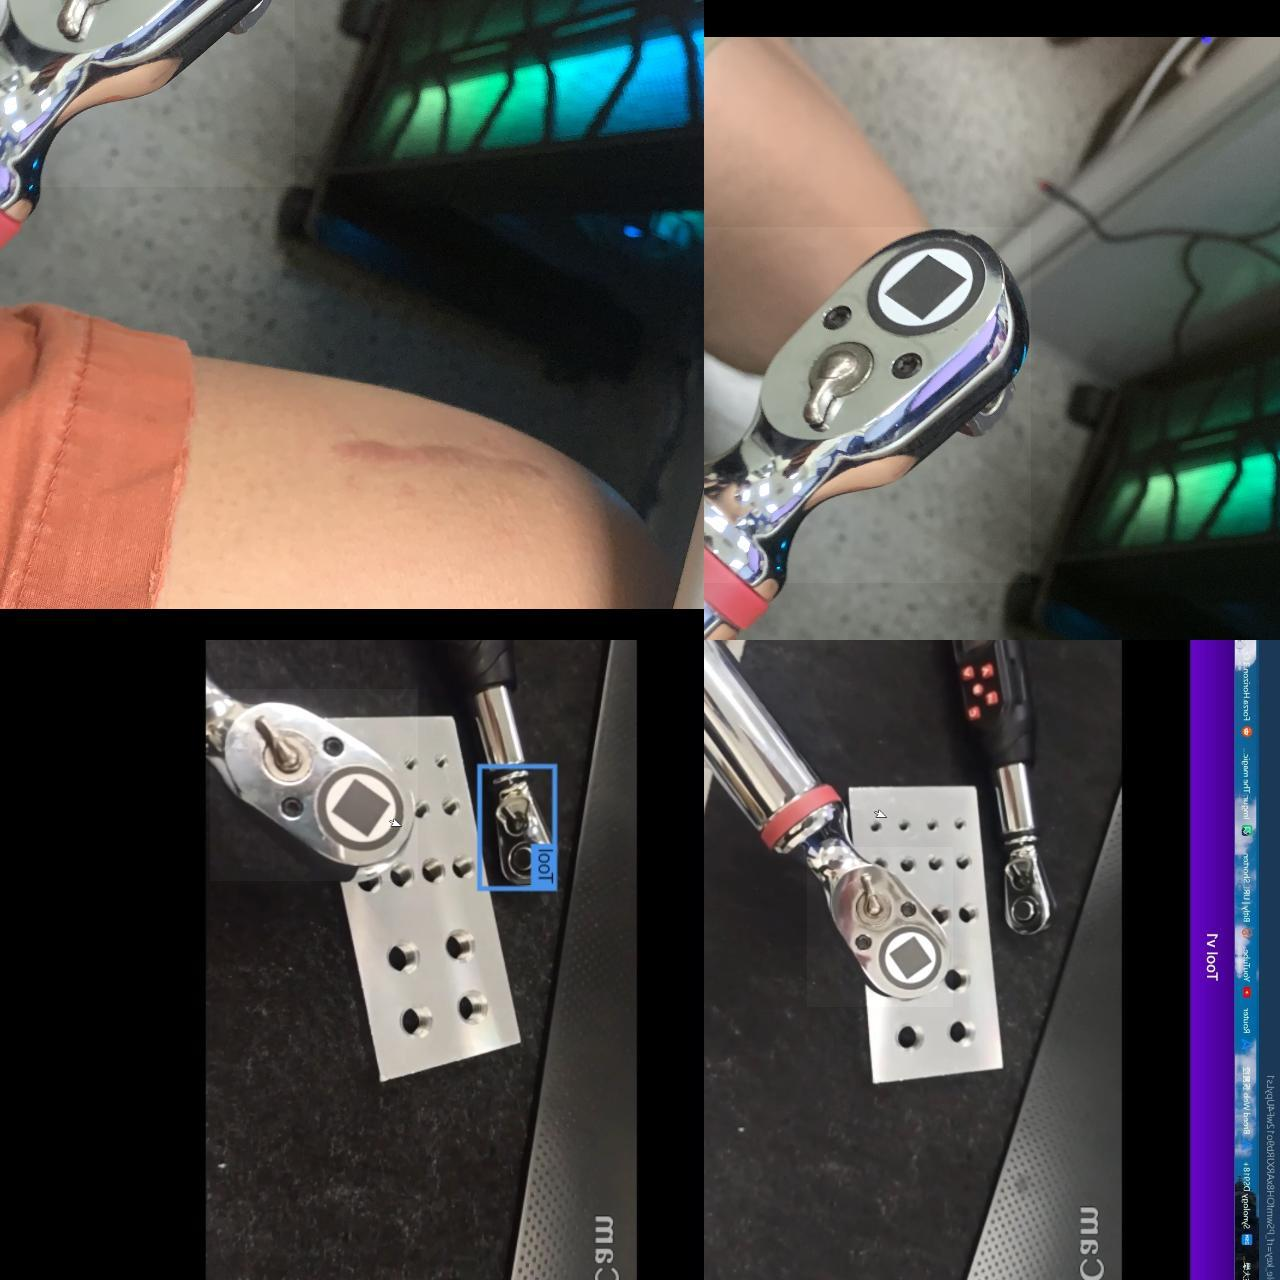Tool: (704, 227, 1030, 583), (0, 0, 294, 188), (209, 689, 417, 881), (806, 847, 952, 1007), (999, 847, 1057, 938)
hole: (376, 937, 422, 982), (436, 922, 478, 968), (445, 987, 491, 1029), (387, 1005, 433, 1046), (885, 1017, 924, 1057), (939, 1015, 974, 1049), (414, 856, 445, 891), (383, 862, 416, 894), (447, 855, 477, 886), (940, 961, 971, 992), (349, 874, 381, 900), (438, 797, 464, 824), (954, 900, 980, 926), (410, 797, 433, 824), (928, 900, 952, 924), (953, 847, 976, 870), (893, 855, 914, 877), (926, 850, 948, 871), (869, 849, 890, 869), (865, 815, 885, 835), (433, 753, 452, 771), (951, 812, 969, 832), (892, 813, 911, 832), (924, 815, 941, 832)
